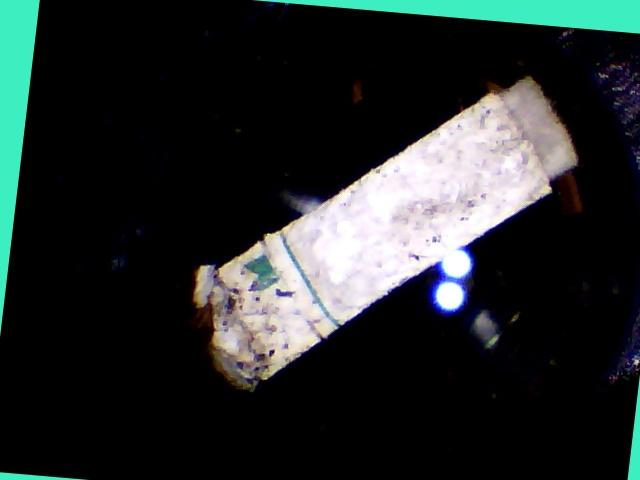megot: (175, 37, 590, 427)
